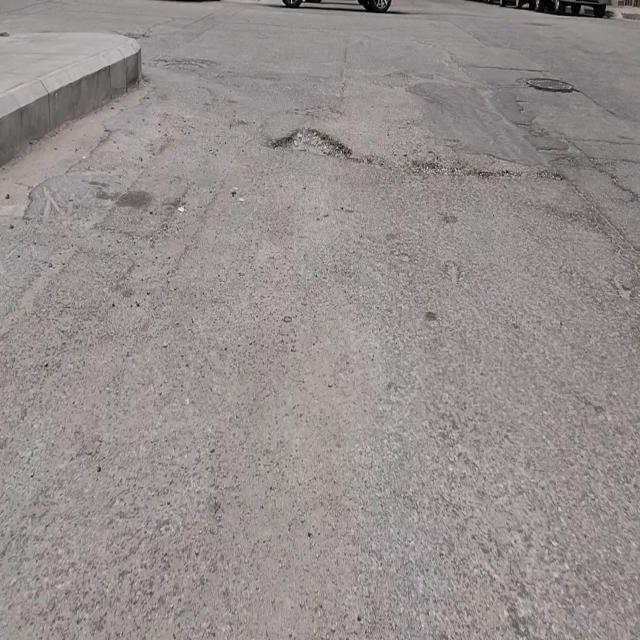Pothole: (270, 123, 352, 162)
